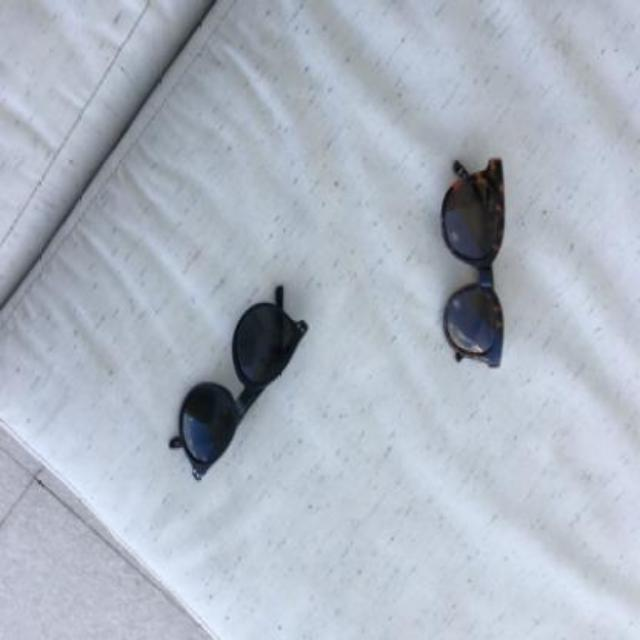glasses: (166, 284, 308, 484), (439, 158, 505, 370)
